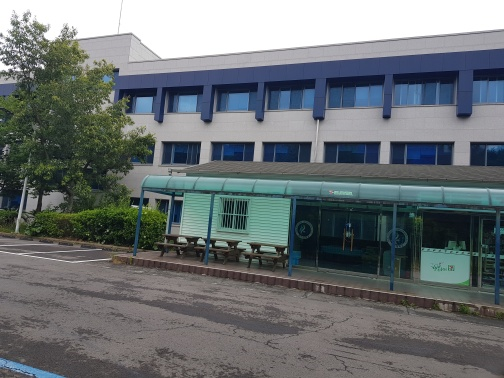College of Social Sciences: (94, 22, 503, 304), (137, 143, 504, 312), (186, 49, 476, 135)
